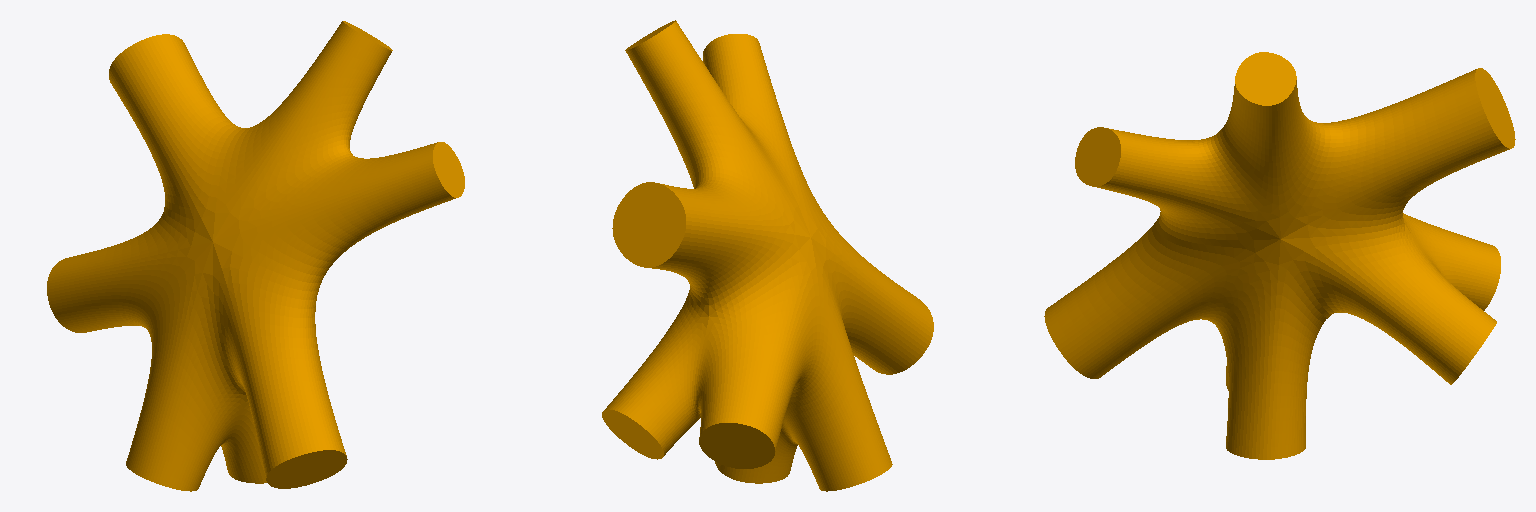
robot.urdf — object:
<robot name="object">
  <link name="object">
    <visual>
      <origin xyz="0 0 0"/>
      <geometry>
        <mesh filename="visual.obj" scale="1 1 1"/>
      </geometry>
    </visual>
    <collision>
      <origin xyz="0 0 0"/>
      <geometry>
        <mesh filename="visual.obj" scale="1 1 1"/>
      </geometry>
    </collision>
    <inertial>
      <mass value="0.05"/>
      <inertia ixx="7.228286924059084e-05" iyy="4.758576397456029e-05" izz="4.491845041318002e-05" ixy="2.897944691061324e-06" ixz="-1.216430224400142e-05" iyz="-2.2587987182033765e-06"/>
    </inertial>
  </link>
</robot>

--- Render facts (derived) ---
3 views of the same robot in one strip: view 1: azimuth 30°, elevation 25°; view 2: azimuth 150°, elevation 25°; view 3: azimuth 270°, elevation 25° (orthographic).
Robot: object — 1 links, 0 joints (none); root link object; default pose: all joints at 0.
Visible links, largest first — view 1: object; view 2: object; view 3: object.
Link boxes in pixels (x1,y1,x2,y2): object: (47, 21, 464, 491); object: (602, 20, 933, 491); object: (1044, 52, 1515, 459).
Bounding box of the posed robot: 0.0834 × 0.1274 × 0.1315 m (x, y, z).
1 mesh visuals loaded from 1 distinct referenced files (1 OBJ).
